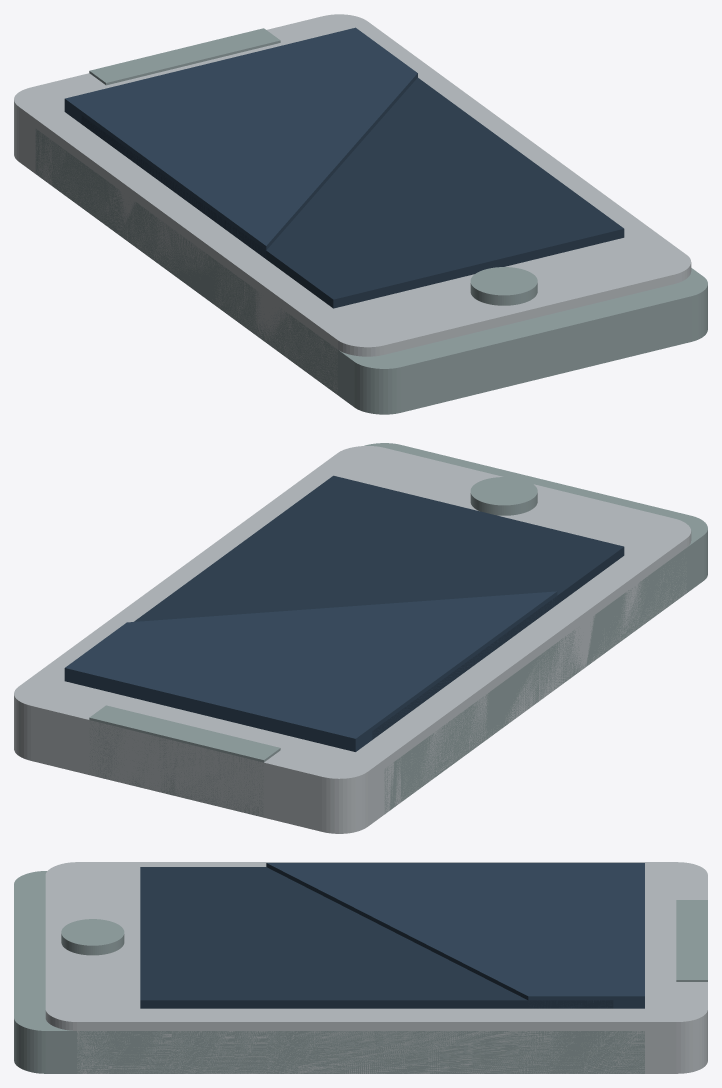
Rendered from mobile.fbx.
3 renders of one model, top to bottom at view 1: azimuth 30°, elevation 25°; view 2: azimuth 150°, elevation 25°; view 3: azimuth 270°, elevation 25°, orthographic. The views are drawn at different scales.
Parts seen in each view (by area): view 1: Curve.036, Curve.038, Curve.039, Curve.035, Curve.040, Curve.037; view 2: Curve.036, Curve.039, Curve.038, Curve.035, Curve.040, Curve.037; view 3: Curve.036, Curve.038, Curve.039, Curve.035, Curve.040, Curve.037.
Boxes of the visible parts, x1,y1,x2,y2 form: Curve.036: [14, 14, 691, 394]; Curve.038: [81, 78, 624, 308]; Curve.039: [64, 27, 417, 258]; Curve.035: [35, 129, 707, 414]; Curve.040: [89, 28, 280, 85]; Curve.037: [470, 267, 537, 305]; Curve.036: [14, 446, 691, 833]; Curve.039: [64, 591, 557, 751]; Curve.038: [134, 475, 624, 739]; Curve.035: [364, 443, 707, 813]; Curve.040: [89, 705, 280, 816]; Curve.037: [470, 477, 537, 515]; Curve.036: [45, 862, 707, 1073]; Curve.038: [140, 867, 613, 1008]; Curve.039: [266, 863, 644, 1008]; Curve.035: [14, 871, 644, 1073]; Curve.040: [676, 900, 707, 981]; Curve.037: [61, 919, 124, 955].
Bounding box in the file's own units: 23.31 × 4.37 × 42.73.
